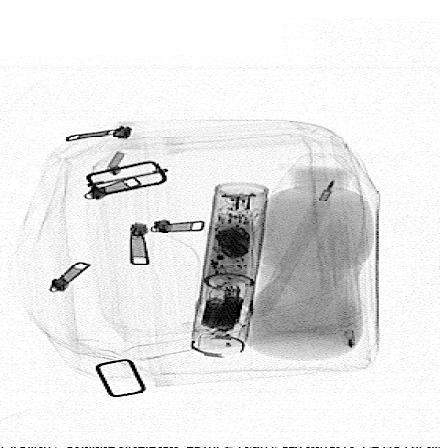Baton: (189, 181, 271, 359)
